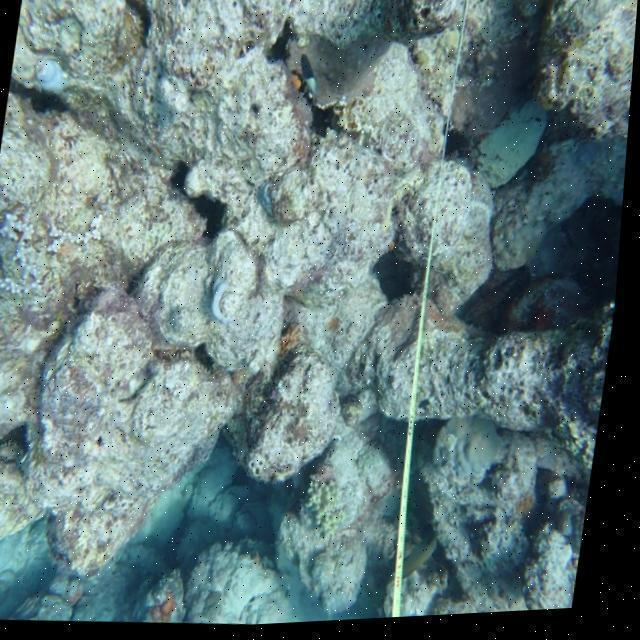Bleached Coral: (22, 42, 84, 112), (203, 267, 249, 330)
